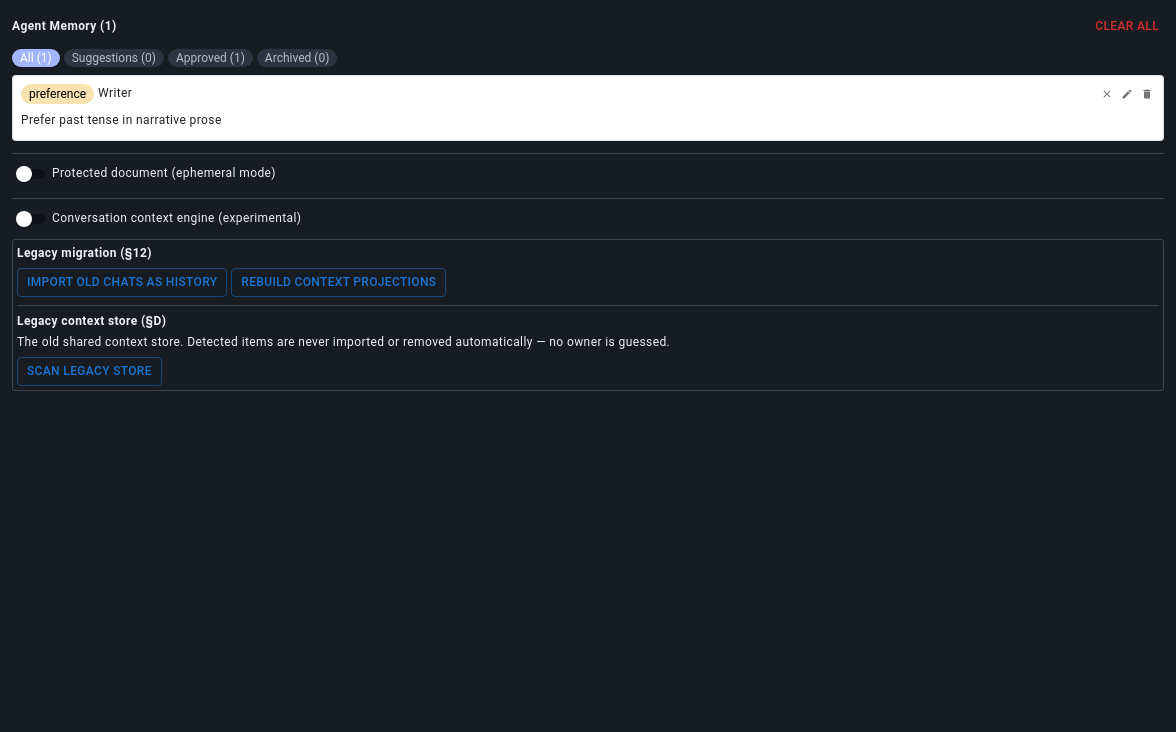
Scenario: MemoryPanel document binding and states (§14) › the delete action is the full §11 forget flow with an honest-limits notice
Click the button named "Forget (§11) — removes this memory, its derived summaries, a" at (1147, 94), box top-left (1139, 86), bottom-right (1155, 102)
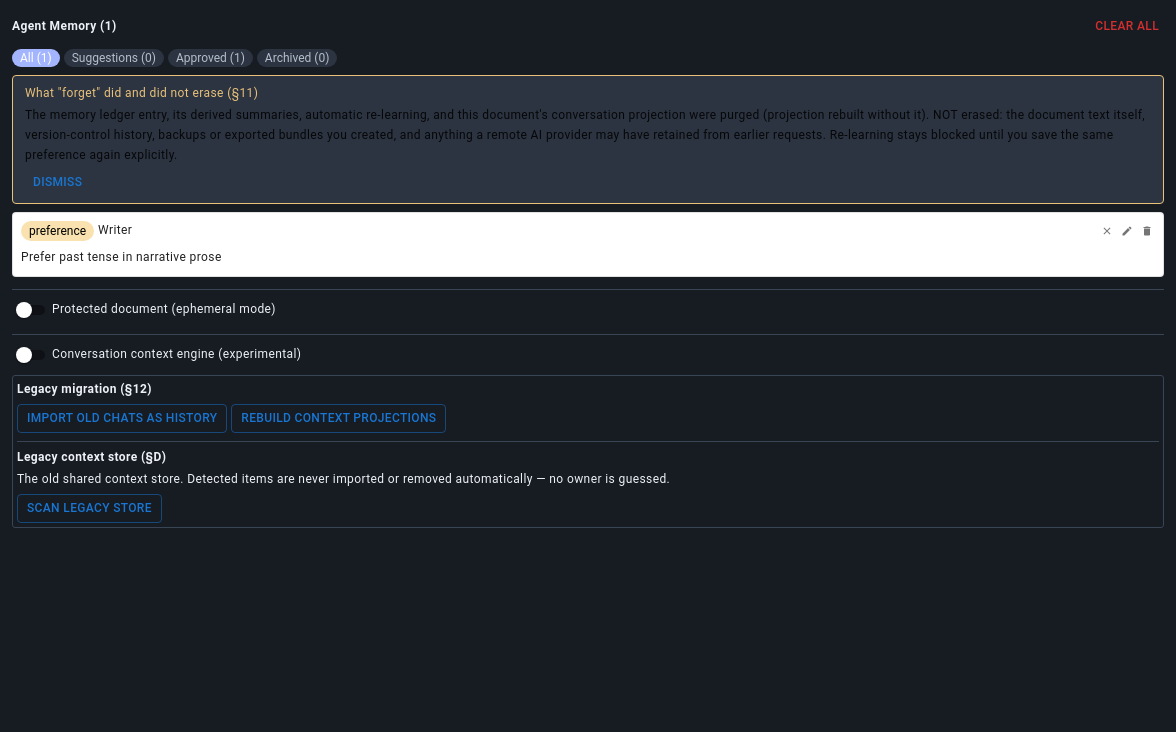
Now the text "did and did not erase" is shown, box top-left (25, 86), bottom-right (258, 100)
Now the text "NOT erased" is shown, box top-left (25, 108), bottom-right (1148, 162)
Now the text "remote AI provider" is shown, box top-left (25, 108), bottom-right (1148, 162)
